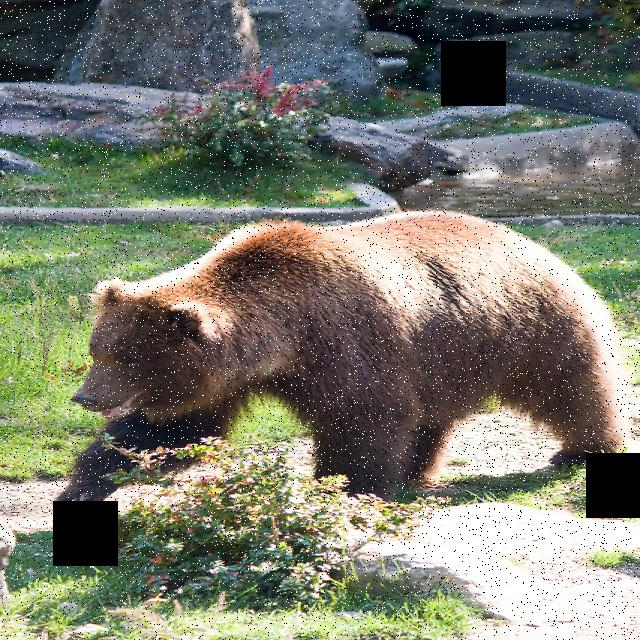Bear: (70, 207, 639, 508)
